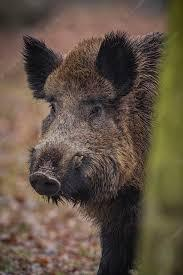wildboar: (18, 24, 168, 274)
